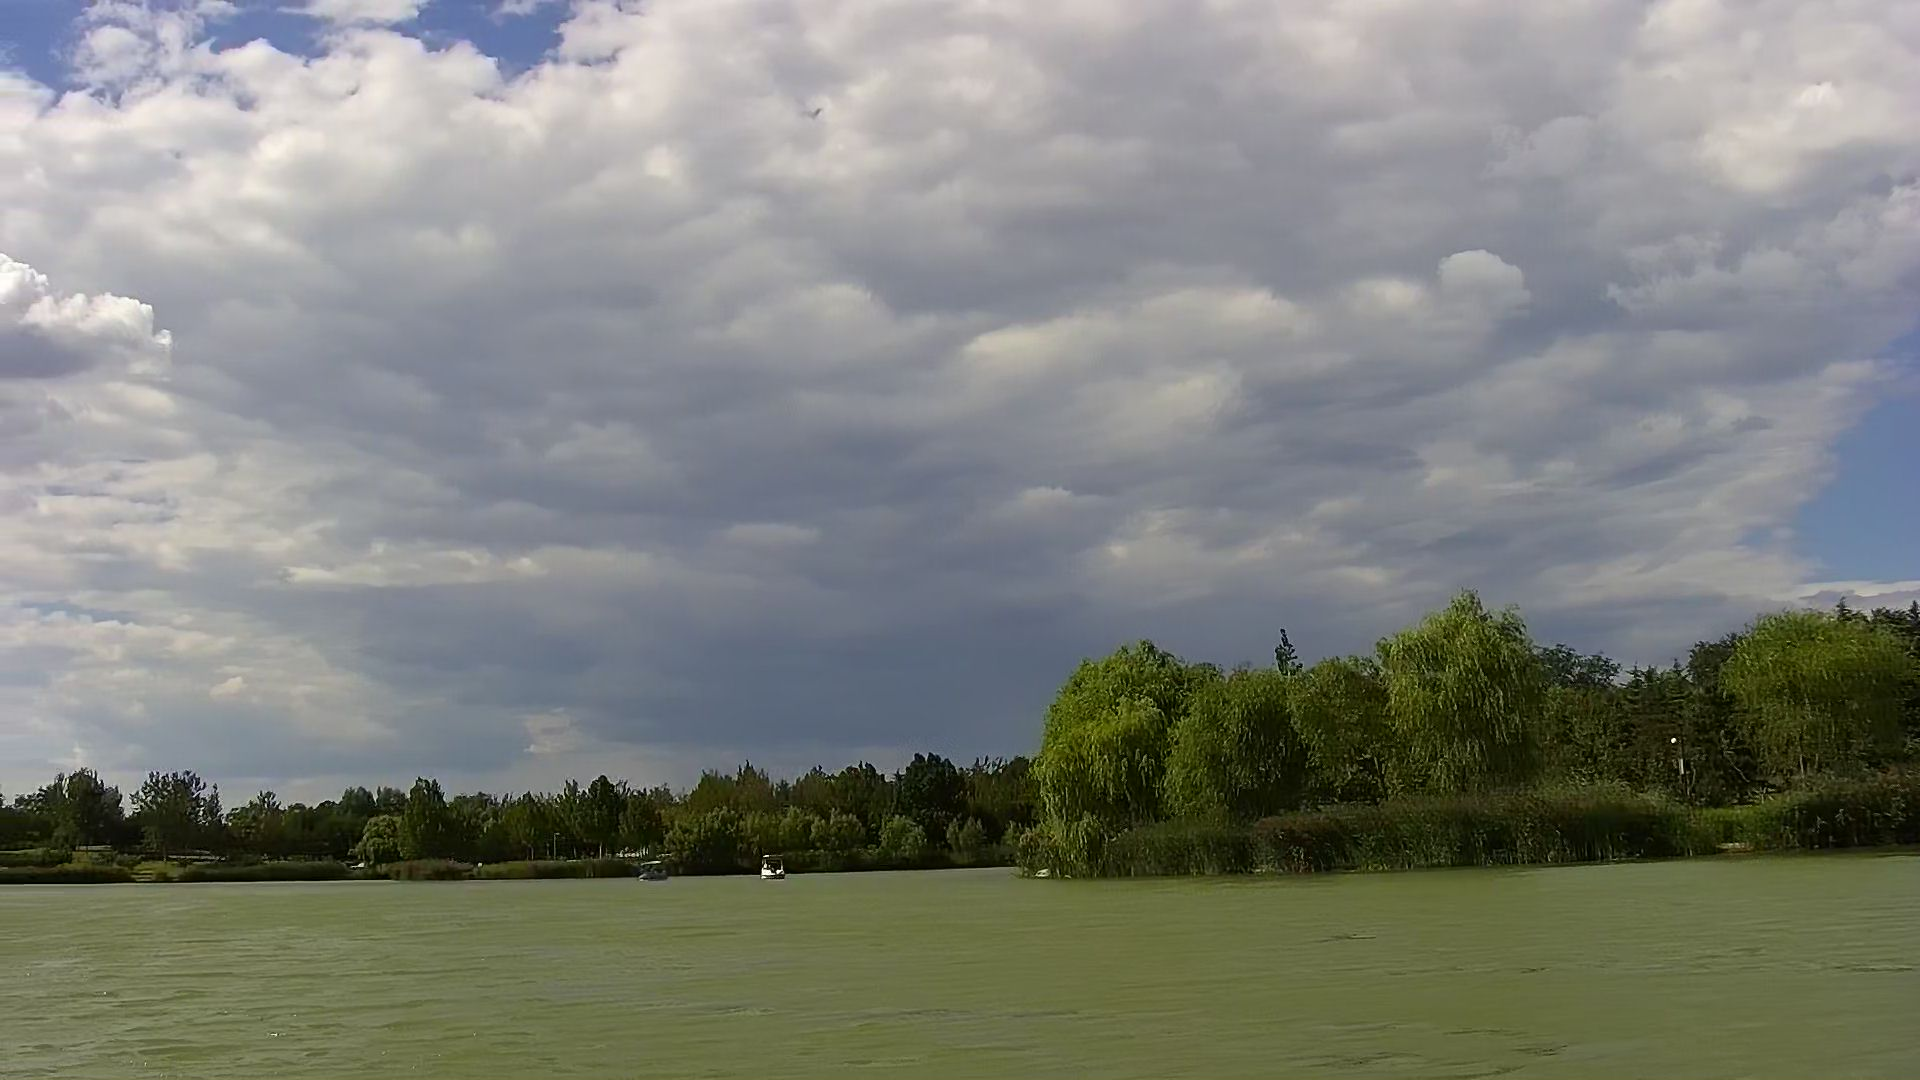boat: (757, 853, 791, 882), (636, 858, 673, 884)
